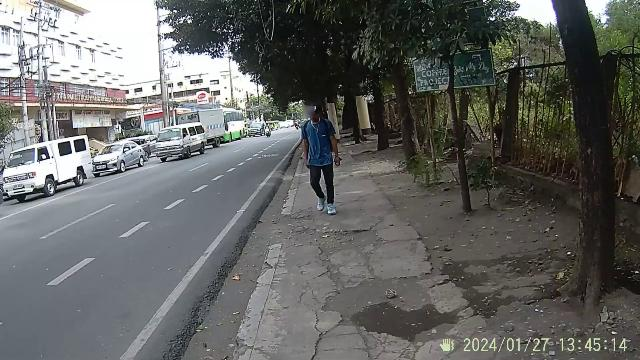cracked_pavement: (291, 232, 375, 360)
